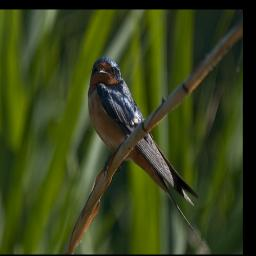Swallow: (87, 56, 201, 239)
